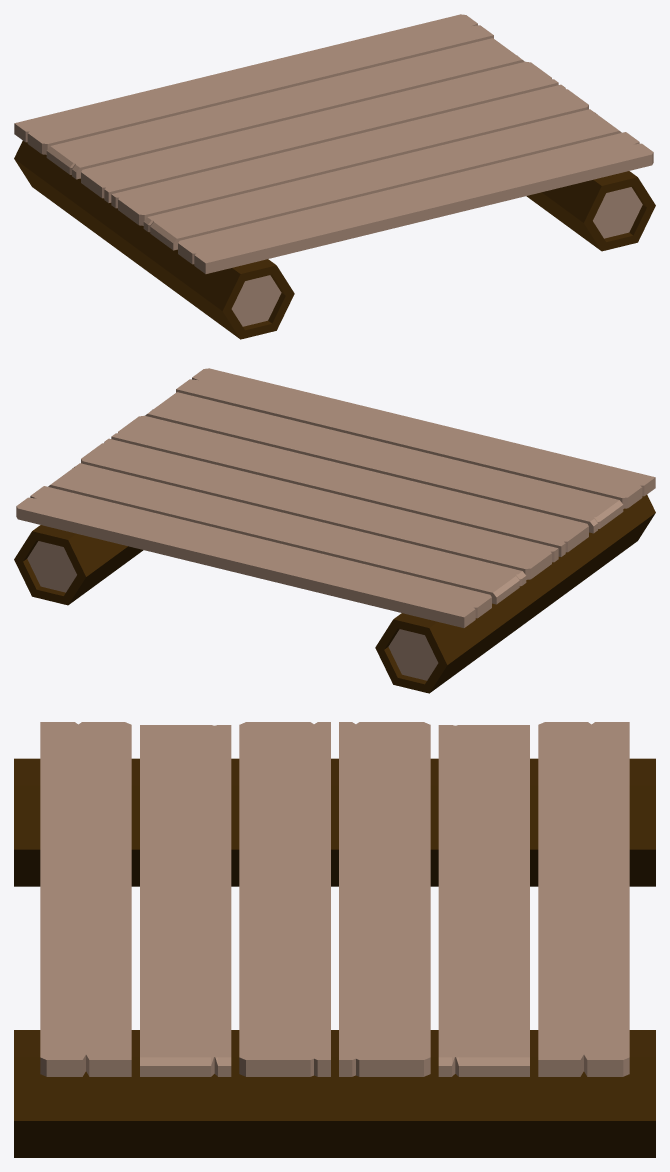
The model's file is plat.glb.
3 renders of one model, top to bottom at view 1: azimuth 30°, elevation 25°; view 2: azimuth 150°, elevation 25°; view 3: azimuth 270°, elevation 25°, orthographic. The views are drawn at different scales.
Visible parts, largest first — view 1: Platform; view 2: Platform; view 3: Platform.
Boxes of the visible parts, box(x1,y1,x2,y2) form: Platform: box(14, 14, 655, 339); Platform: box(14, 368, 655, 693); Platform: box(14, 722, 655, 1157).
Size of the model in its own units: 5.36 by 0.8696 by 4.3.
